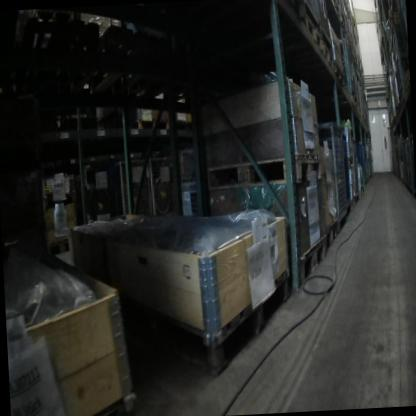pallet: (101, 261, 305, 390), (61, 9, 136, 118), (7, 12, 76, 124), (206, 145, 322, 202), (130, 19, 185, 115), (289, 237, 331, 296), (86, 390, 138, 416), (298, 4, 321, 61), (134, 112, 170, 140), (318, 220, 340, 258), (338, 86, 361, 120), (384, 5, 403, 34), (339, 89, 358, 113), (331, 58, 345, 90), (322, 38, 335, 70), (323, 0, 340, 20), (405, 68, 410, 93)
stillage: (33, 148, 83, 252), (77, 136, 124, 230), (311, 117, 348, 236), (174, 139, 211, 230), (118, 143, 152, 226), (148, 154, 184, 223), (405, 133, 415, 198), (351, 130, 360, 200), (357, 139, 366, 198)
